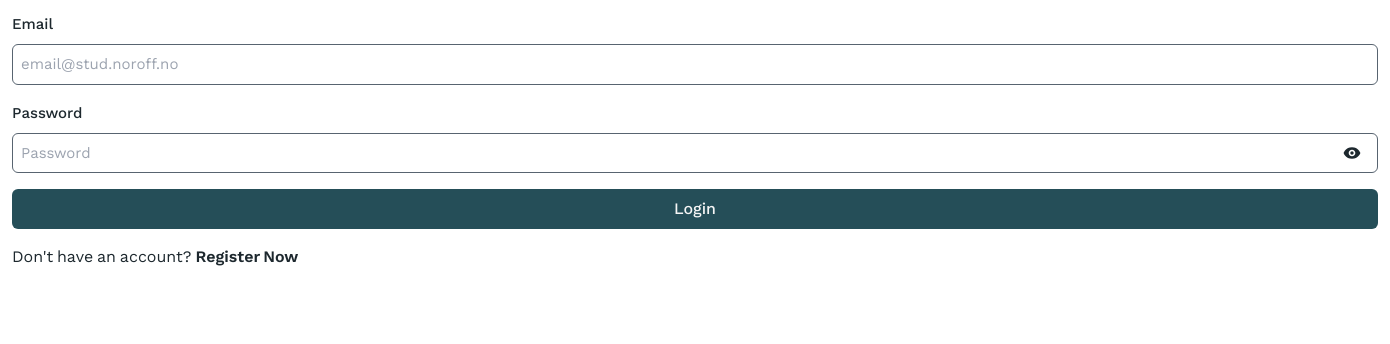
LoginForm › should display validation errors on empty form submission
What coordinates should you click on to do the following:
click the button "Login"
I would click on:
 (695, 209)
Its box is [12,189,1378,229].
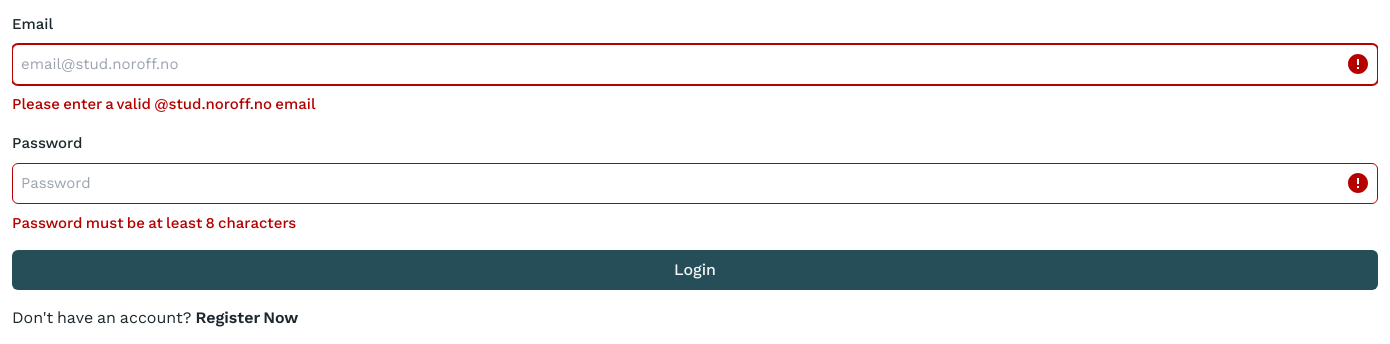
Expected: the text "Please enter a valid @stud.noroff.no email" is shown, [12,94,316,112]
Expected: the text "Password must be at least 8 characters" is shown, [12,214,296,232]
